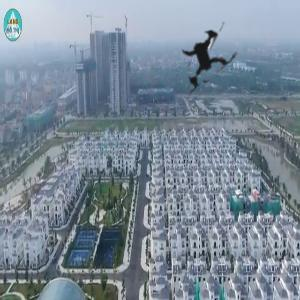drone: (150, 3, 266, 119)
